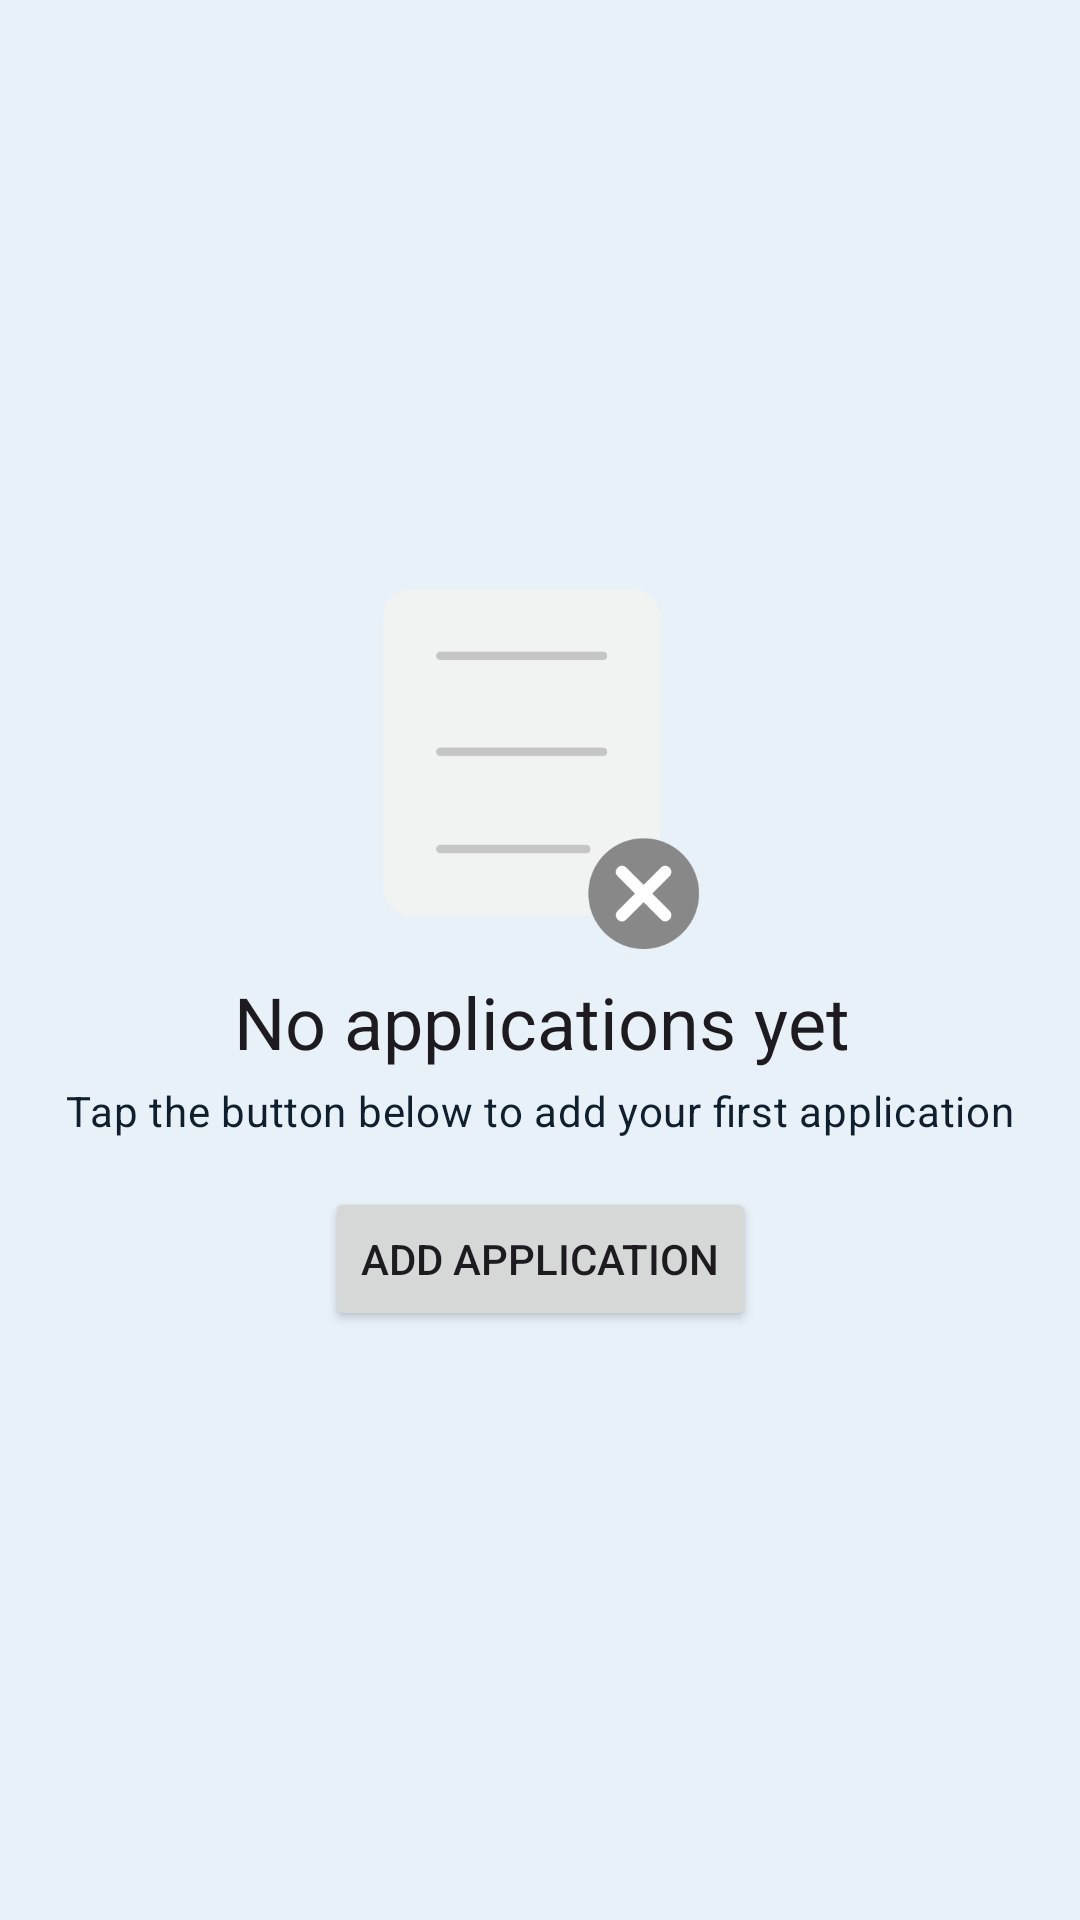

Locate icon controls on the screen. Image size 1080 x 1920, boxes as (x1, y1, x2, y2).
image for empty list: (383, 589, 699, 949)
